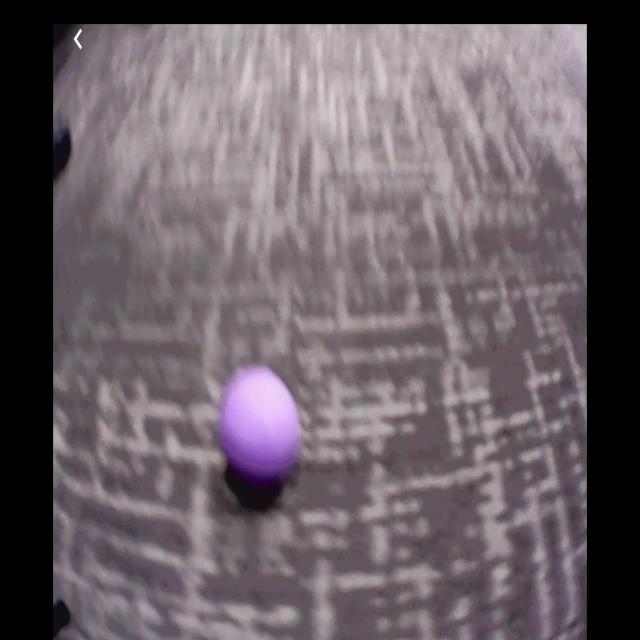ball: (223, 368, 300, 481)
